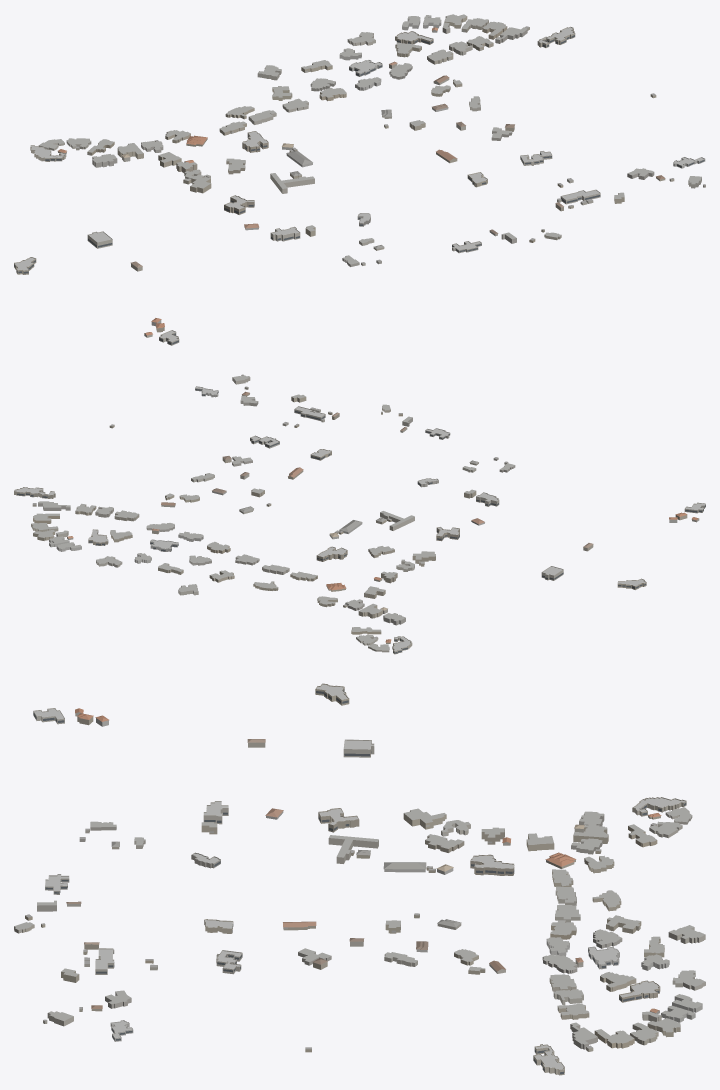
File: buildings_r3_c0.glb
The picture shows the model from 3 angles, top to bottom: view 1: azimuth 30°, elevation 25°; view 2: azimuth 150°, elevation 25°; view 3: azimuth 270°, elevation 25°; orthographic projection. The views are drawn at different scales.
Parts seen in each view (by area): view 1: buildings_r3_c0; view 2: buildings_r3_c0; view 3: buildings_r3_c0.
Boxes of the visible parts, bbox=[...] form: buildings_r3_c0: bbox=[14, 14, 705, 345]; buildings_r3_c0: bbox=[14, 374, 705, 654]; buildings_r3_c0: bbox=[14, 683, 705, 1075].
Size of the model in its own units: 1108 by 74.49 by 793.
